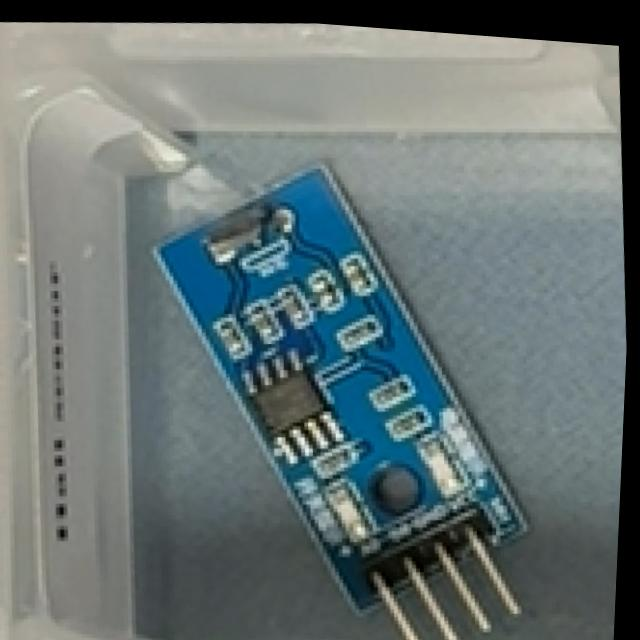Hall Sensor: (130, 132, 556, 640)
